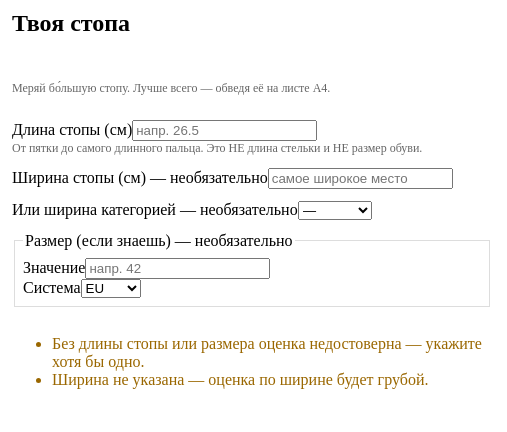
Test: FootInput › ввод длины убирает это предупреждение и показывает разбор мм/EU
Type "26.5" into the field labelled "Длина стопы (см)".
click(225, 130); type("26.5")  # box [132, 120, 317, 141]
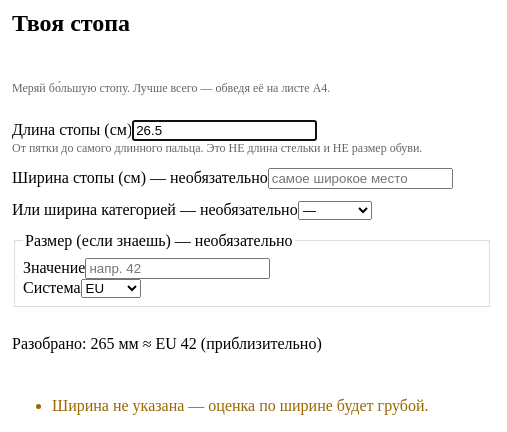
Now the list item "недостоверна" is gone
Now the text "Разобрано: 265 мм ≈ EU 42 (приблизительно)" is shown, box [12, 335, 322, 352]
